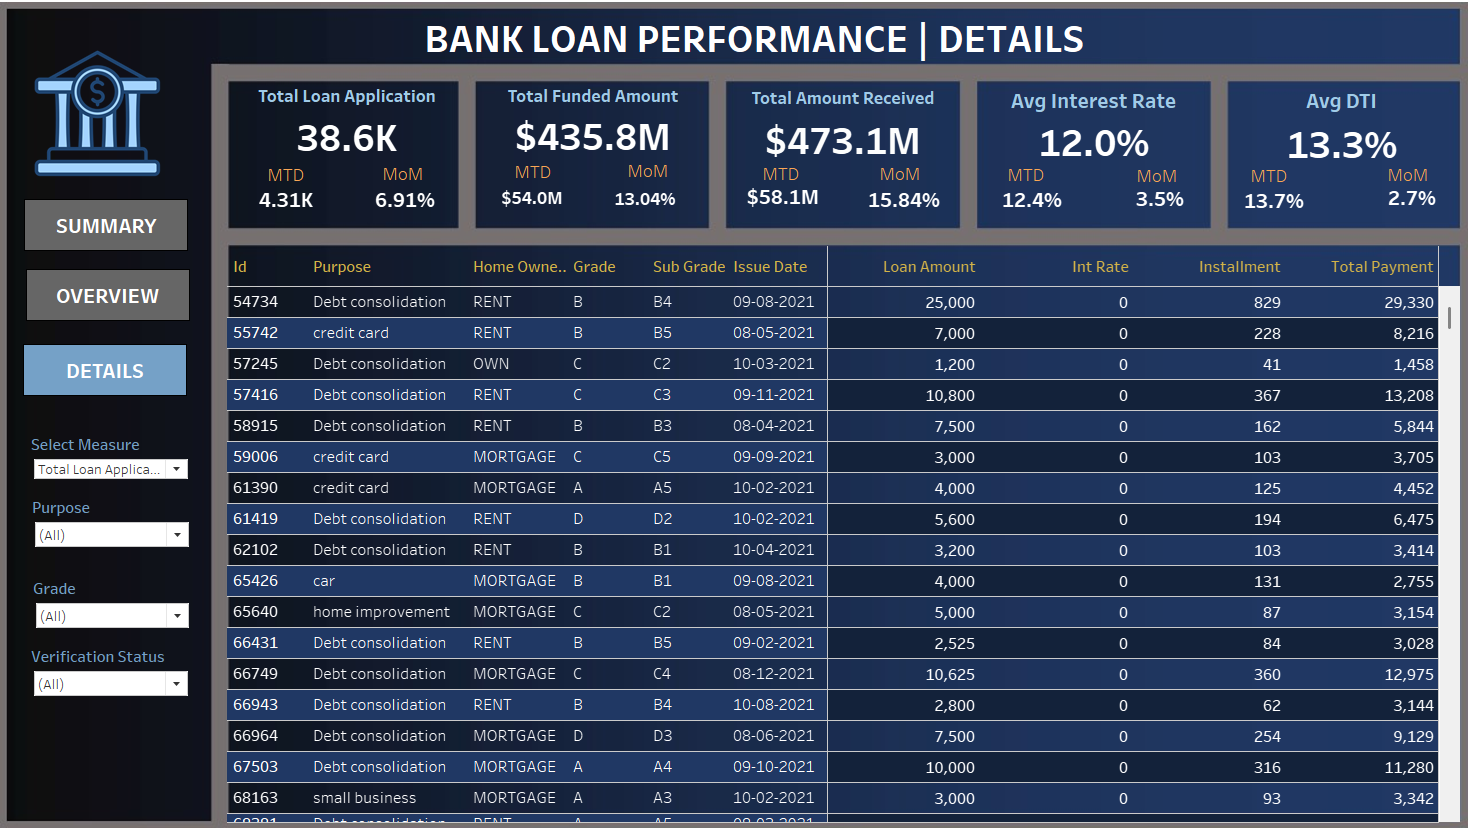

This screenshot's page, from the dashboard's own definition file:
{"tool":"tableau","page":{"name":"DETAILS","canvas":[1500,850],"ordinal":0},"visuals":[{"type":"image","param":"C:/Users/Jay/Downloads/Tableau Background 3.jpg","box":[8,8,1484,834]},{"type":"text","box":[437,22,762,49]},{"type":"image","param":"C:/Users/Jay/AppData/Local/Temp/TableauTemp/0762clh030wt7m18up9ho1kilqzh/Sheets9","box":[48,58,153,130]},{"type":"worksheet","title":"Total Loan Application","mark":"Automatic","box":[246,90,234,74]},{"type":"worksheet","title":"Total Funded Amount","mark":"Automatic","box":[493,90,232,72]},{"type":"worksheet","title":"Total Amount Received","mark":"Automatic","box":[742,92,234,75]},{"type":"worksheet","title":"Avg Interest Rate","mark":"Automatic","box":[992,92,235,76]},{"type":"worksheet","title":"Avg DTI","mark":"Automatic","box":[1242,92,231,79]},{"type":"text","box":[640,168,48,24]},{"type":"text","box":[395,171,48,24]},{"type":"text","box":[892,171,48,24]},{"type":"text","box":[527,172,47,19]},{"type":"text","box":[1400,172,48,24]},{"type":"text","box":[1149,173,48,24]},{"type":"text","box":[775,174,47,19]},{"type":"text","box":[280,175,47,19]},{"type":"text","box":[1020,175,47,19]},{"type":"text","box":[1263,176,47,19]},{"type":"worksheet","title":"MTD Total Funded Amount","mark":"Automatic","box":[500,183,96,47]},{"type":"worksheet","title":"MoM Total Funded Amount","mark":"Automatic","box":[610,183,102,49]},{"type":"worksheet","title":"MTD Total Loan Application","mark":"Automatic","box":[262,189,80,40]},{"type":"worksheet","title":"MTD Total Received Amount","mark":"Automatic","box":[758,189,82,33]},{"type":"worksheet","title":"MoM Avg DTI","mark":"Automatic","box":[1394,189,67,35]},{"type":"worksheet","title":"MoM Received Amount","mark":"Automatic","box":[879,192,81,34]},{"type":"worksheet","title":"MoM Avg Interest","mark":"Automatic","box":[1137,192,78,32]},{"type":"worksheet","title":"MTD Avg  DTI","mark":"Automatic","box":[1245,192,90,36]},{"type":"worksheet","title":"MoM Loan Application","mark":"Automatic","box":[377,193,87,31]},{"type":"worksheet","title":"MTD Avg Interest","mark":"Automatic","box":[1008,194,79,30]},{"type":"dashboard-object","box":[40,209,164,52]},{"type":"worksheet","title":"Details","mark":"Automatic","rows":["id","purpose","home_ownership","grade","sub_grade","issue_date"],"box":[243,256,1233,577]},{"type":"dashboard-object","box":[42,279,164,52]},{"type":"dashboard-object","box":[39,354,164,52]},{"type":"parameter","param":"[Parameters].[Installment Parameter]","box":[47,444,160,48]},{"type":"filter","title":"Avg DTI","param":"[federated.0mfh5rp1uvokj7133s2b20uocadv].[none:purpose:nk]","box":[48,507,160,64]},{"type":"filter","title":"Avg DTI","param":"[federated.0mfh5rp1uvokj7133s2b20uocadv].[none:grade:nk]","box":[49,588,159,56]},{"type":"filter","title":"Avg DTI","param":"[federated.0mfh5rp1uvokj7133s2b20uocadv].[none:verification_status:nk]","box":[47,656,160,59]}]}

Visuals, with their boxes in screenshot pixels (x1, y1, x2, y2), scaled from the page's 1500x850 canvas onto the 1472x829 screenshot:
image: Rect(8, 8, 1464, 821)
text: Rect(429, 21, 1177, 69)
image: Rect(47, 57, 197, 183)
"Total Loan Application" worksheet: Rect(241, 88, 471, 160)
"Total Funded Amount" worksheet: Rect(484, 88, 711, 158)
"Total Amount Received" worksheet: Rect(728, 90, 958, 163)
"Avg Interest Rate" worksheet: Rect(973, 90, 1204, 164)
"Avg DTI" worksheet: Rect(1219, 90, 1446, 167)
text: Rect(628, 164, 675, 187)
text: Rect(388, 167, 435, 190)
text: Rect(875, 167, 922, 190)
text: Rect(517, 168, 563, 186)
text: Rect(1374, 168, 1421, 191)
text: Rect(1128, 169, 1175, 192)
text: Rect(761, 170, 807, 188)
text: Rect(275, 171, 321, 189)
text: Rect(1001, 171, 1047, 189)
text: Rect(1239, 172, 1286, 190)
"MTD Total Funded Amount" worksheet: Rect(491, 178, 585, 224)
"MoM Total Funded Amount" worksheet: Rect(599, 178, 699, 226)
"MTD Total Loan Application" worksheet: Rect(257, 184, 336, 223)
"MTD Total Received Amount" worksheet: Rect(744, 184, 824, 217)
"MoM Avg DTI" worksheet: Rect(1368, 184, 1434, 218)
"MoM Received Amount" worksheet: Rect(863, 187, 942, 220)
"MoM Avg Interest" worksheet: Rect(1116, 187, 1192, 218)
"MTD Avg  DTI" worksheet: Rect(1222, 187, 1310, 222)
"MoM Loan Application" worksheet: Rect(370, 188, 455, 218)
"MTD Avg Interest" worksheet: Rect(989, 189, 1067, 218)
dashboard-object: Rect(39, 204, 200, 255)
"Details" worksheet: Rect(238, 250, 1448, 812)
dashboard-object: Rect(41, 272, 202, 323)
dashboard-object: Rect(38, 345, 199, 396)
parameter: Rect(46, 433, 203, 480)
"Avg DTI" filter: Rect(47, 494, 204, 557)
"Avg DTI" filter: Rect(48, 573, 204, 628)
"Avg DTI" filter: Rect(46, 640, 203, 697)
